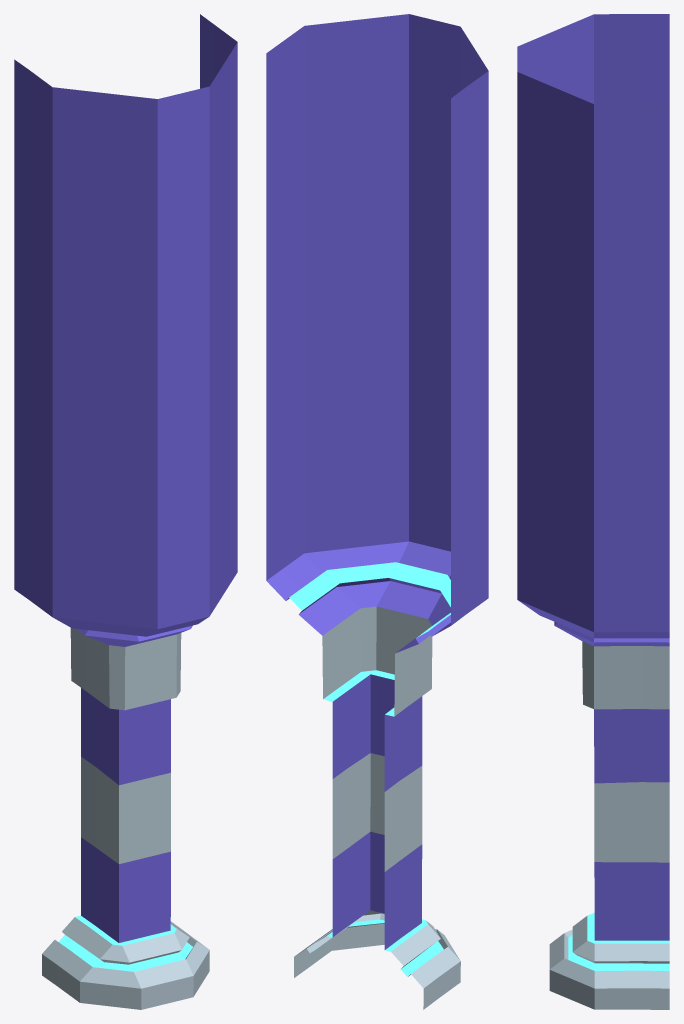
The model's file is Full_PillarWall_A_Tall.fbx.
3 renders of one model, left to right at view 1: azimuth 30°, elevation 25°; view 2: azimuth 150°, elevation 25°; view 3: azimuth 270°, elevation 25°, orthographic.
Visible parts, largest first — view 1: Full_PillarWall_A; view 2: Full_PillarWall_A; view 3: Full_PillarWall_A.
Part boxes in pixels (x1,y1,x2,y2): Full_PillarWall_A: (14, 14, 237, 1009); Full_PillarWall_A: (266, 14, 488, 1009); Full_PillarWall_A: (517, 14, 669, 1009).
Size of the model in its own units: 342 by 1622 by 244.
